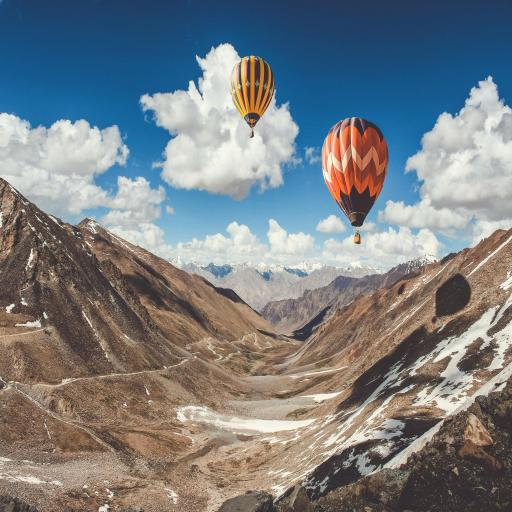hot air ballon: (320, 114, 390, 246), (230, 52, 275, 140)
